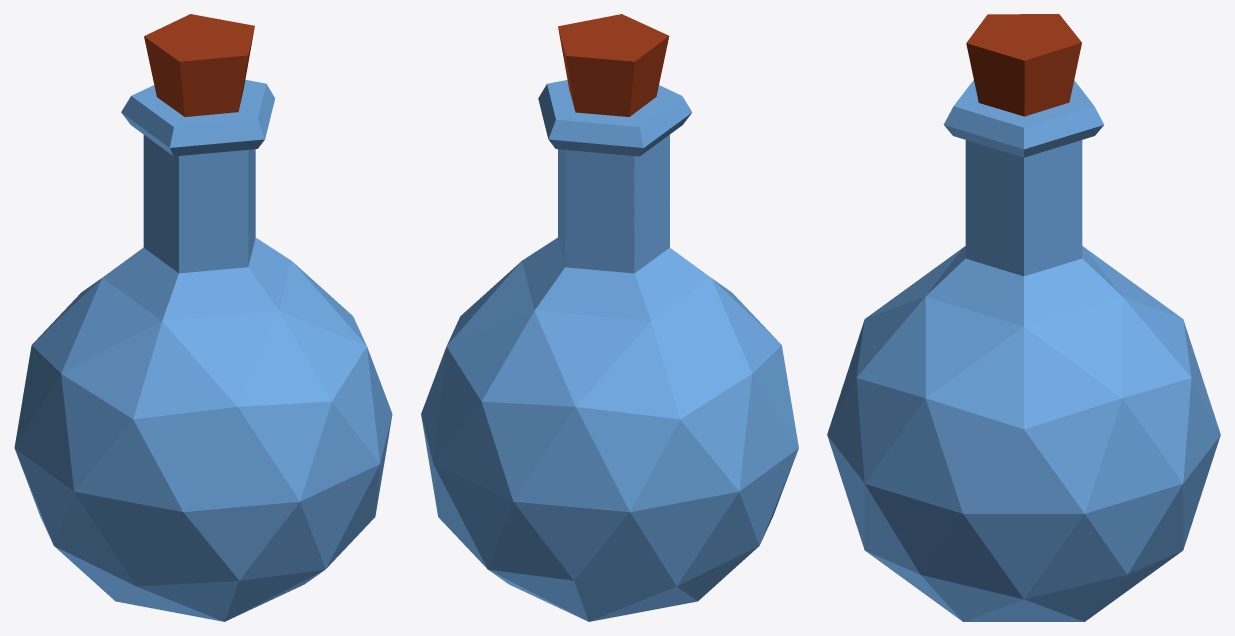
Rendered from Potion1.fbx.
The picture shows the model from 3 angles, left to right: view 1: azimuth 30°, elevation 25°; view 2: azimuth 150°, elevation 25°; view 3: azimuth 270°, elevation 25°; orthographic projection.
Parts seen in each view (by area): view 1: Icosphere, Icosphere.001; view 2: Icosphere, Icosphere.001; view 3: Icosphere, Icosphere.001.
Boxes of the visible parts, bbox=[...] form: Icosphere: bbox=[14, 79, 392, 621]; Icosphere.001: bbox=[144, 14, 254, 116]; Icosphere: bbox=[421, 80, 798, 621]; Icosphere.001: bbox=[558, 14, 669, 116]; Icosphere: bbox=[827, 80, 1220, 621]; Icosphere.001: bbox=[966, 14, 1081, 116].
Bounding box in the file's own units: 190 × 324 × 200.
